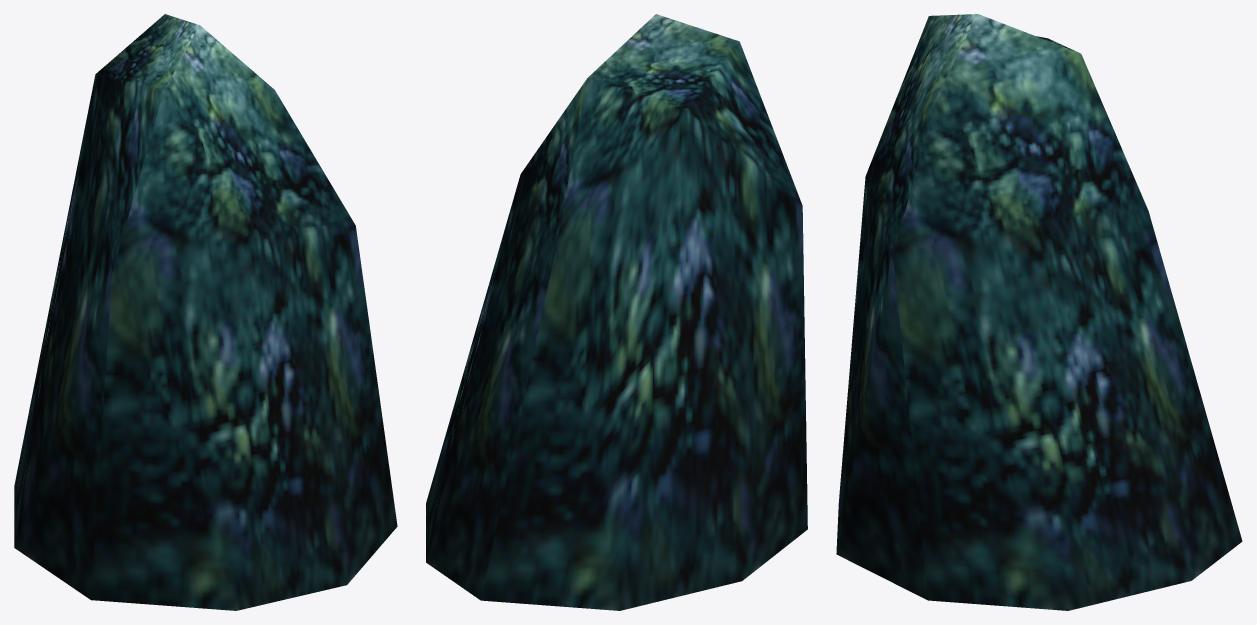
Rendered from rocks02.obj.
The picture shows the model from 3 angles, left to right: view 1: azimuth 30°, elevation 25°; view 2: azimuth 150°, elevation 25°; view 3: azimuth 270°, elevation 25°; orthographic projection. The views are drawn at different scales.
Visible parts, largest first — view 1: North_Rocks2; view 2: North_Rocks2; view 3: North_Rocks2.
Part boxes in pixels (x1,y1,x2,y2): North_Rocks2: [14, 14, 397, 610]; North_Rocks2: [426, 14, 807, 610]; North_Rocks2: [836, 14, 1242, 610].
Bounding box in the file's own units: 2.59 × 3.92 × 2.85.
Materials: 1 (1 with a texture image).
